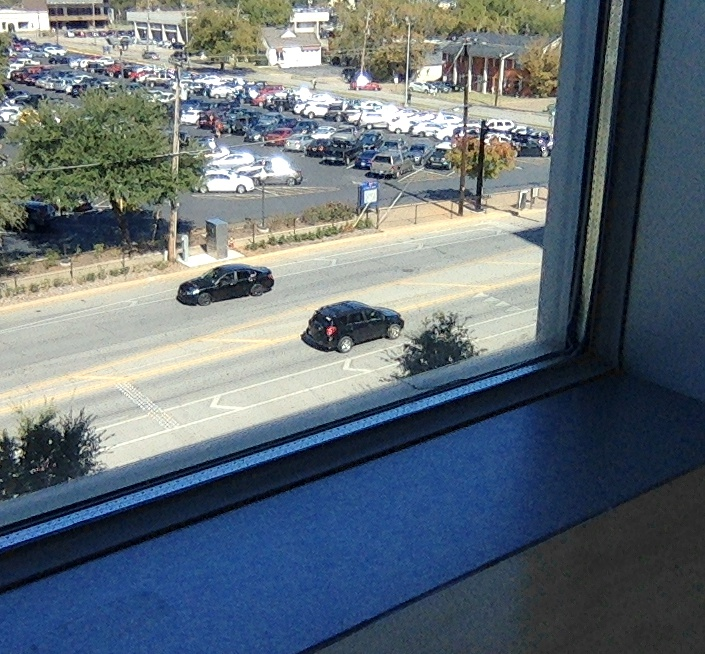car: (300, 300, 405, 354)
